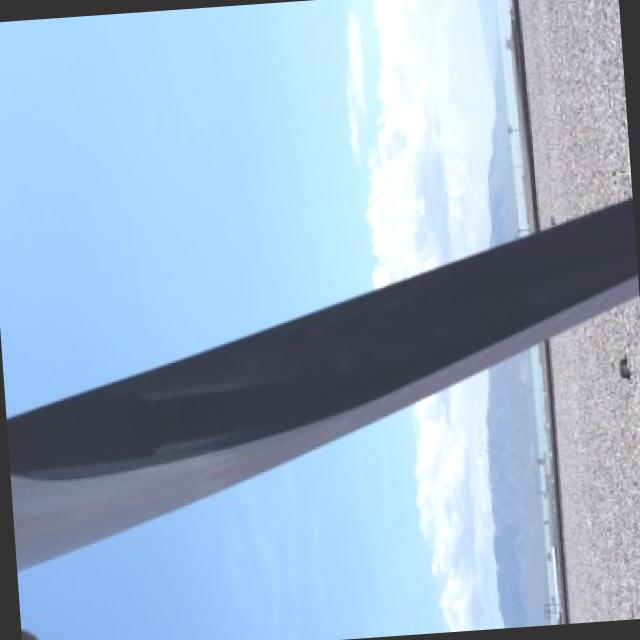healthy: (18, 348, 553, 640)
